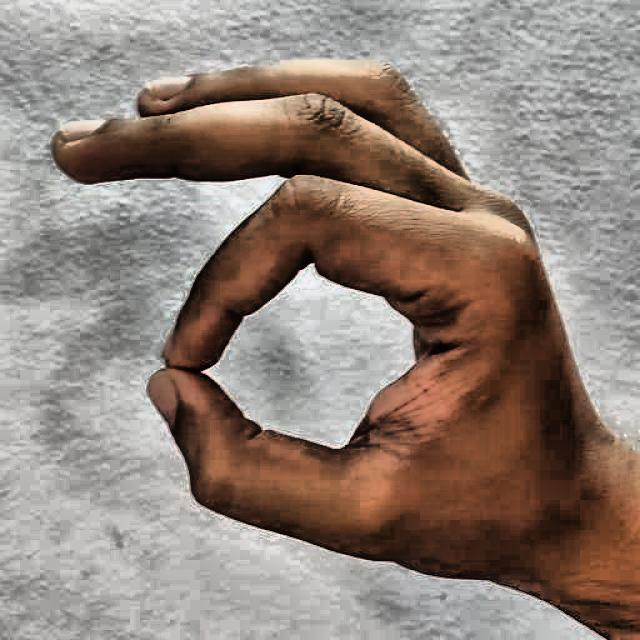Yo: (35, 31, 587, 630)
